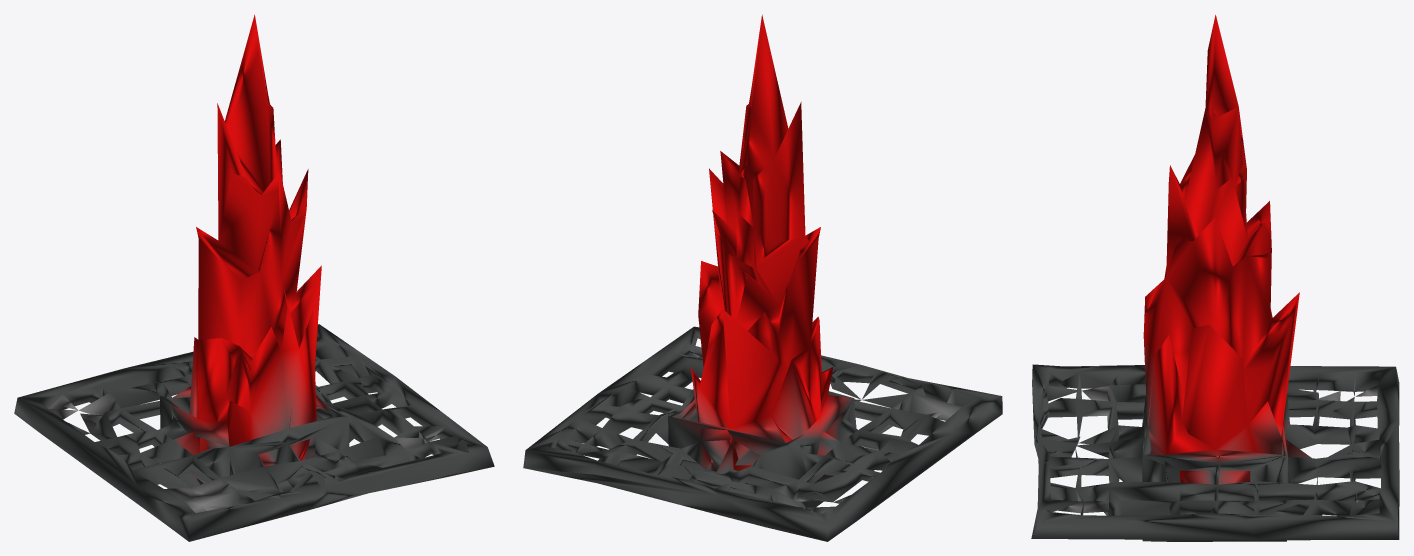
Rendered from gen3d-flame-trap-lod1.glb.
The picture shows the model from 3 angles, left to right: view 1: azimuth 30°, elevation 25°; view 2: azimuth 150°, elevation 25°; view 3: azimuth 270°, elevation 25°; orthographic projection. The views are drawn at different scales.
Visible parts, largest first — view 1: part_0; view 2: part_0; view 3: part_0.
Part boxes in pixels (left/top/right/bottom): part_0: left=14, top=14, right=494, bottom=541; part_0: left=523, top=14, right=1002, bottom=541; part_0: left=1031, top=15, right=1399, bottom=541.
Size of the model in its own units: 0.6751 by 0.9989 by 0.6704.
